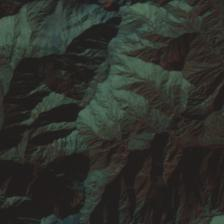landslides: (205, 72, 224, 93), (192, 45, 209, 58), (184, 70, 204, 80), (138, 145, 152, 158), (206, 16, 221, 26), (117, 202, 129, 214), (204, 10, 219, 19), (105, 197, 114, 211), (197, 64, 221, 69)
